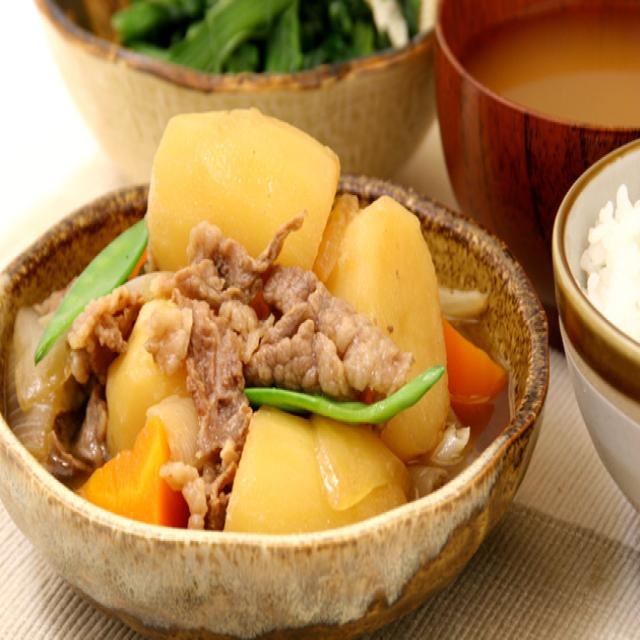牛肉菜式: (0, 91, 555, 640)
